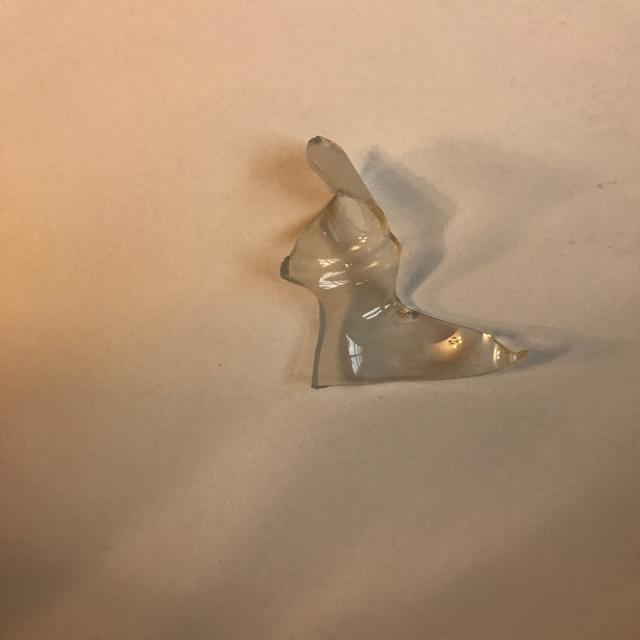glass: (276, 130, 534, 388)
